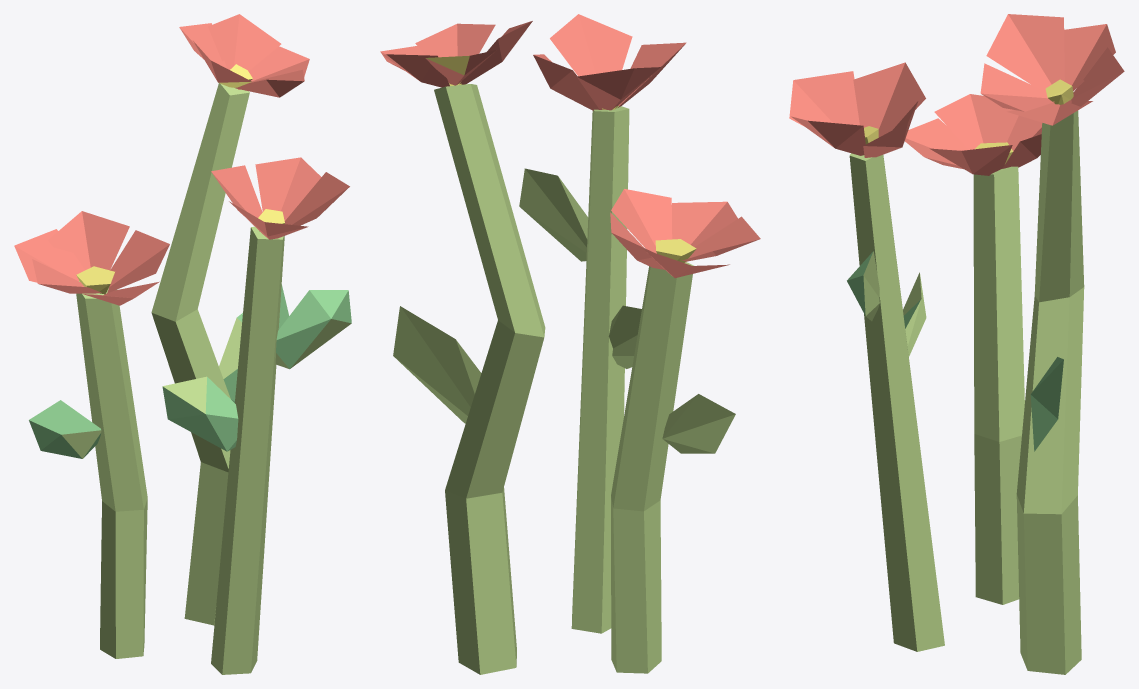
The model's file is SaffyRed.fbx.
3 renders of one model, left to right at view 1: azimuth 30°, elevation 25°; view 2: azimuth 150°, elevation 25°; view 3: azimuth 270°, elevation 25°, orthographic. The views are drawn at different scales.
Visible parts, largest first — view 1: group497038186, group1974220130, group2113321743; view 2: group2113321743, group497038186, group1974220130; view 3: group2113321743, group497038186, group1974220130.
Boxes of the visible parts, left/top/right/bottom form: group497038186: left=162, top=157, right=351, bottom=674; group1974220130: left=14, top=211, right=169, bottom=658; group2113321743: left=151, top=14, right=309, bottom=625; group2113321743: left=380, top=21, right=545, bottom=674; group497038186: left=519, top=14, right=686, bottom=633; group1974220130: left=610, top=189, right=760, bottom=673; group2113321743: left=980, top=14, right=1124, bottom=674; group497038186: left=789, top=62, right=944, bottom=651; group1974220130: left=905, top=94, right=1042, bottom=604.
Size of the model in its own units: 73.17 by 130 by 61.91.
